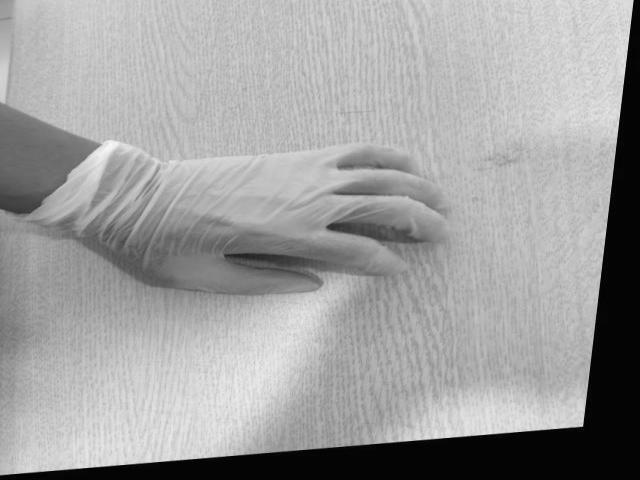gloved: (139, 142, 445, 300)
